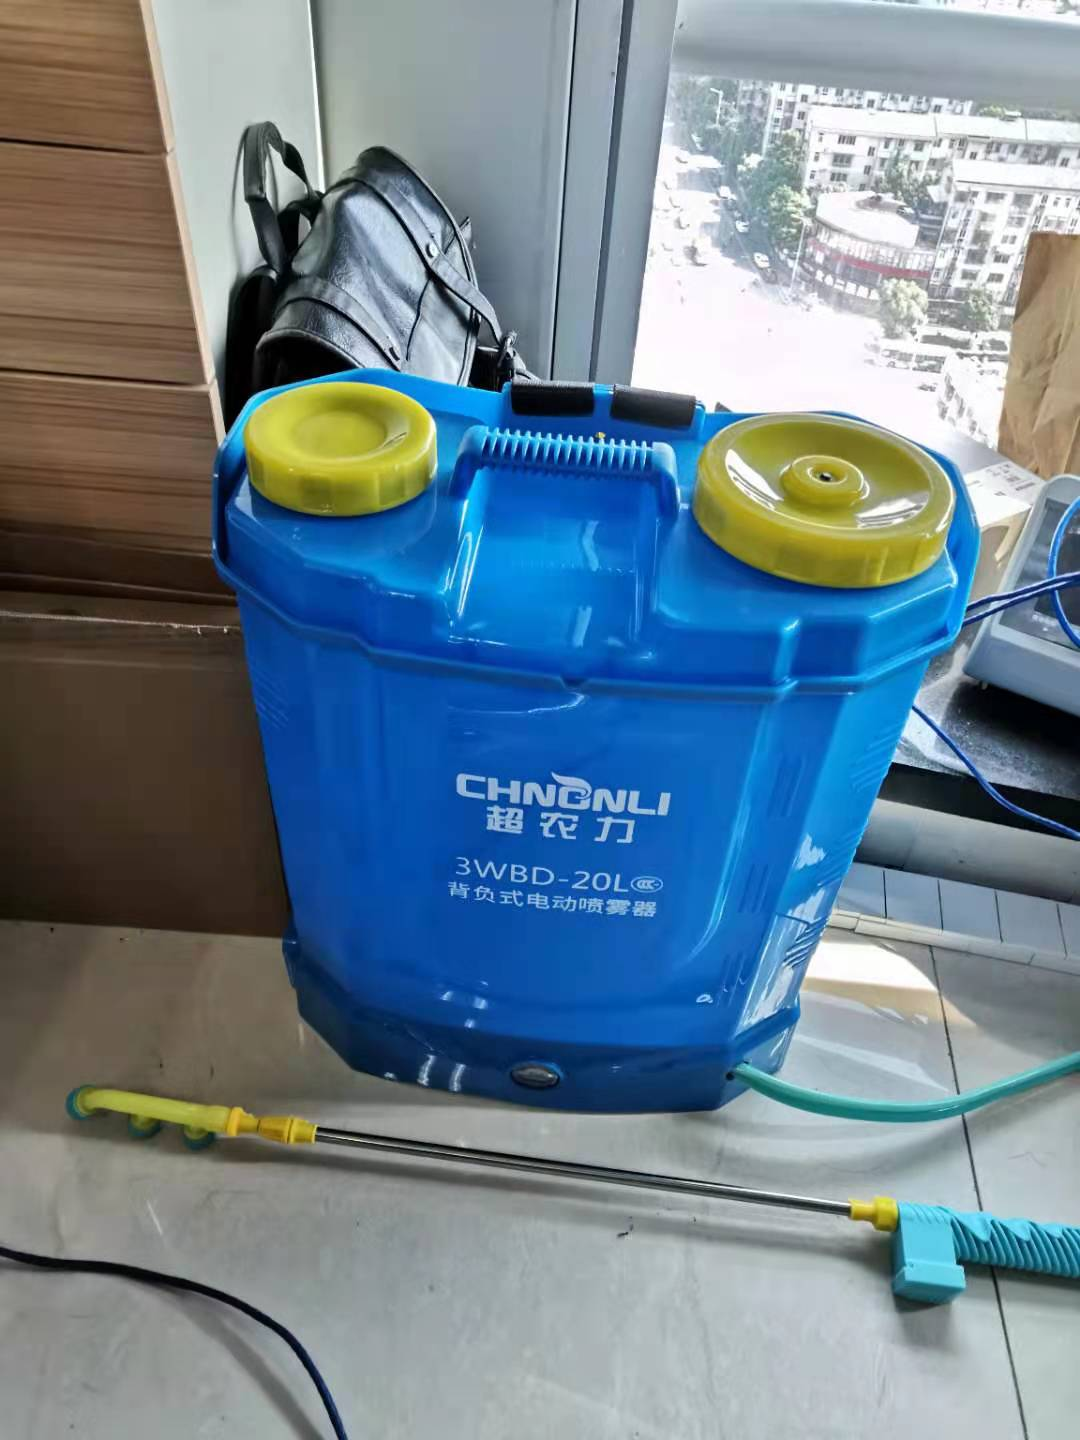berrl: (199, 361, 1001, 1133)
